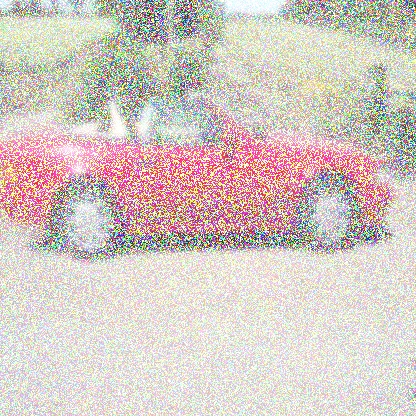Vehicle: (1, 50, 406, 300)
